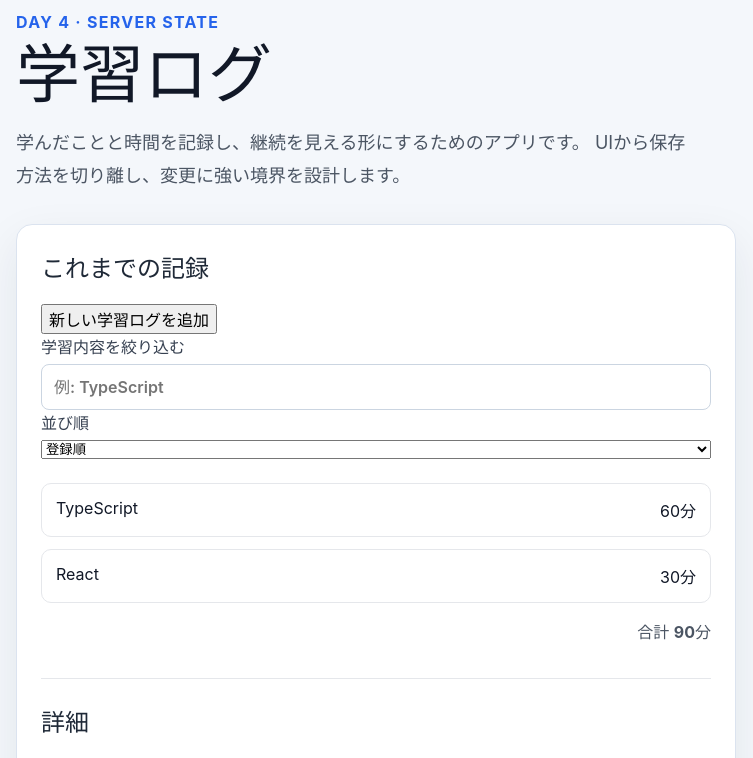
Test case: StudyLogPage › 学習内容または学習時間で一覧を並び替える
The width and height of the screenshot is (753, 758).
Select "学習内容順" in the dropdown labelled "並び順". click: (376, 449)
box: [41,440,711,459]
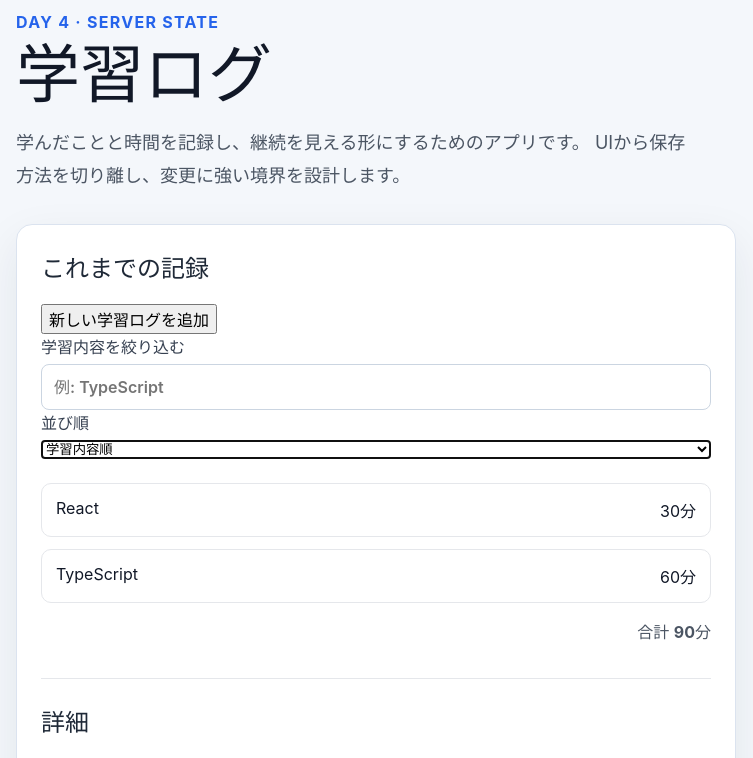
Check: the buttons read "React30分", "TypeScript60分", in this order, box [41,483,711,537]; [41,549,711,603]
Select "学習時間が長い順" in the dropdown labelled "並び順". click: (376, 449)
box: [41,440,711,459]
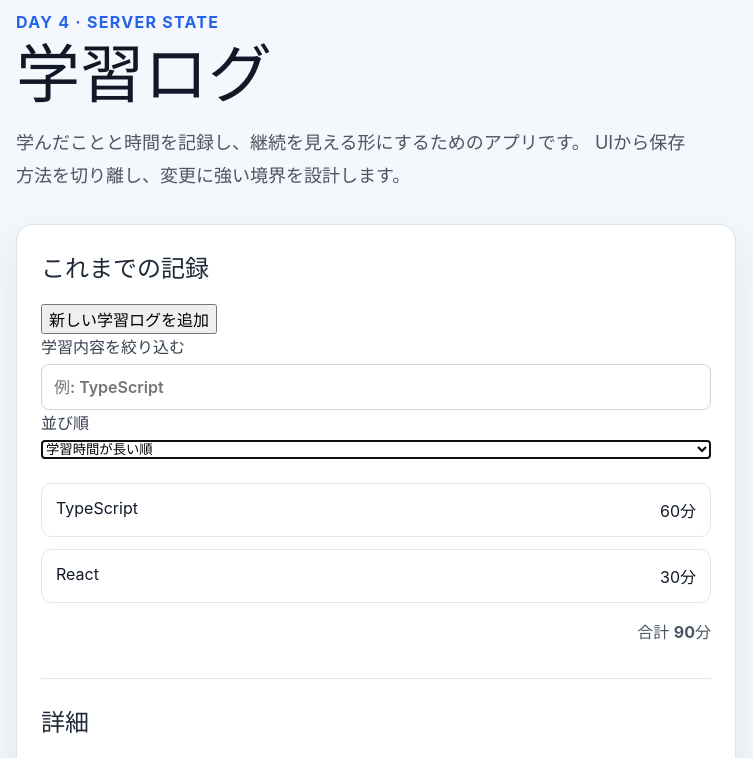
Check: the buttons read "TypeScript60分", "React30分", in this order, box [41,483,711,537]; [41,549,711,603]
